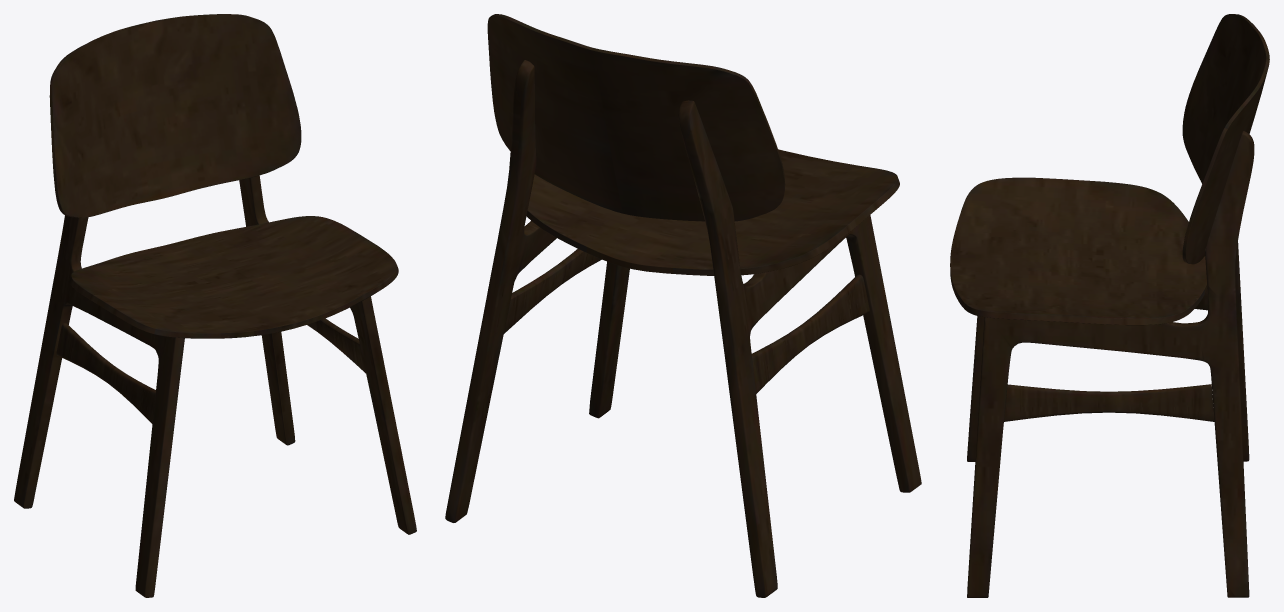
File: chair.glb
3 renders of one model, left to right at view 1: azimuth 30°, elevation 25°; view 2: azimuth 150°, elevation 25°; view 3: azimuth 270°, elevation 25°, orthographic. The views are drawn at different scales.
Visible parts, largest first — view 1: Chair; view 2: Chair; view 3: Chair.
Boxes of the visible parts, x1,y1,x2,y2 form: Chair: [14, 14, 416, 597]; Chair: [445, 14, 921, 597]; Chair: [950, 14, 1269, 597].
Size of the model in its own units: 2.66 by 4.1 by 2.53.
1 material, 1 textured.
